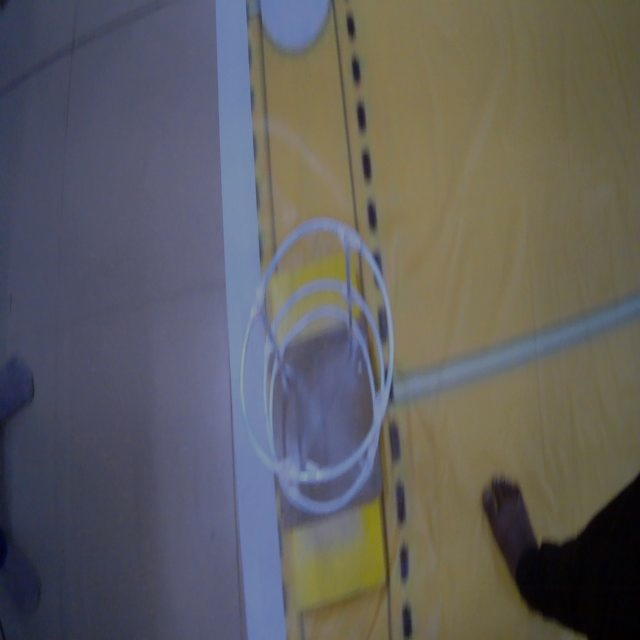silo: (230, 210, 404, 530)
